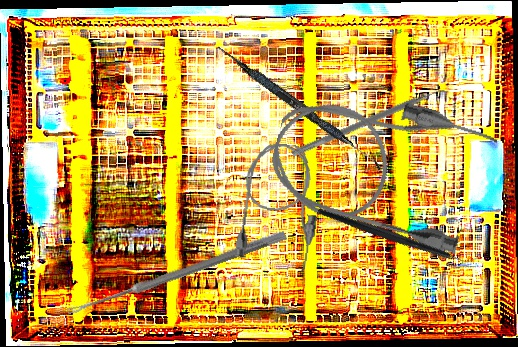Cannula: (260, 72, 501, 258), (233, 139, 326, 274)
Chopper: (315, 158, 481, 311)
Spatula Surgical: (212, 43, 387, 171), (291, 82, 450, 165)
Surgical Spoon: (66, 228, 287, 319)
